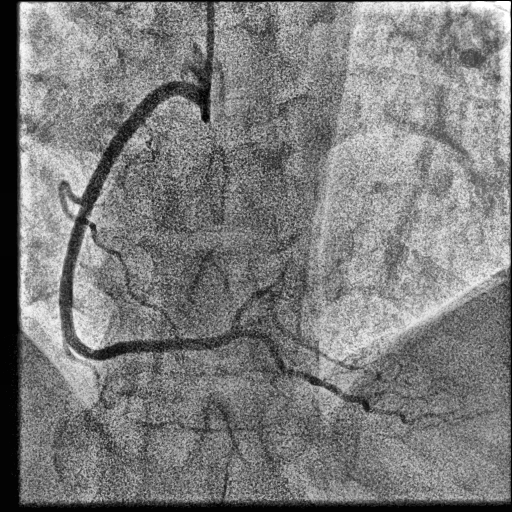pda: (241, 329, 448, 425)
rca: (59, 82, 241, 361)
